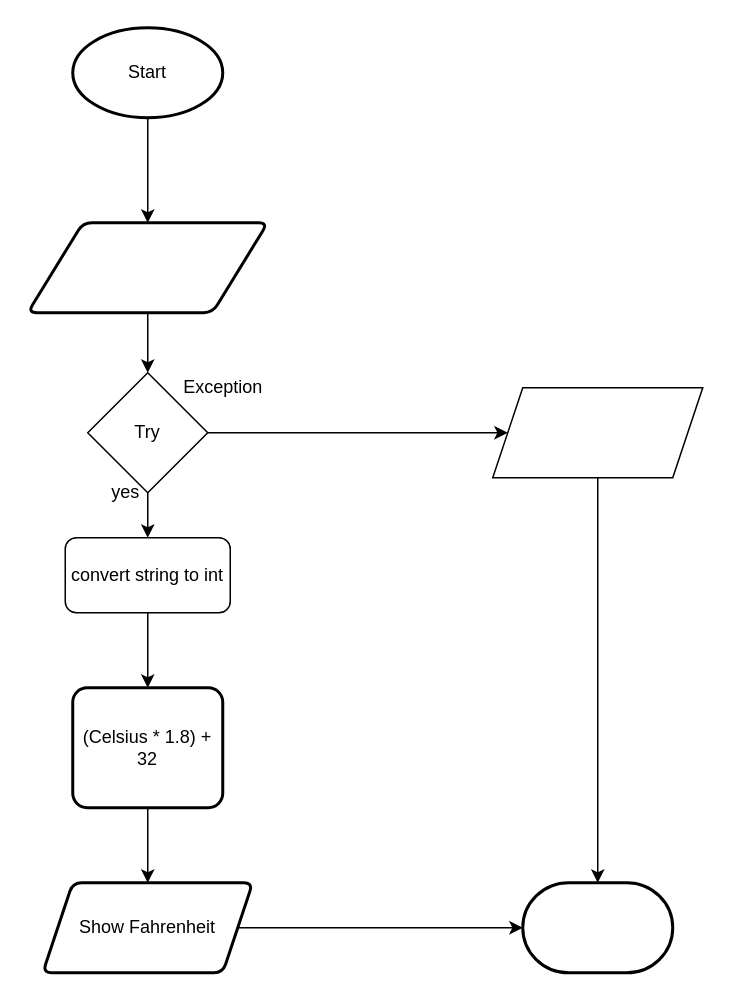
Image size: 729x999. Some labels were removed from this diagram. Each missing label, with the centre of its shape:
"That's invalid, enter a number next time": the point at 597,432
Get Celsius: the point at 147,267
Stop: the point at 597,927
